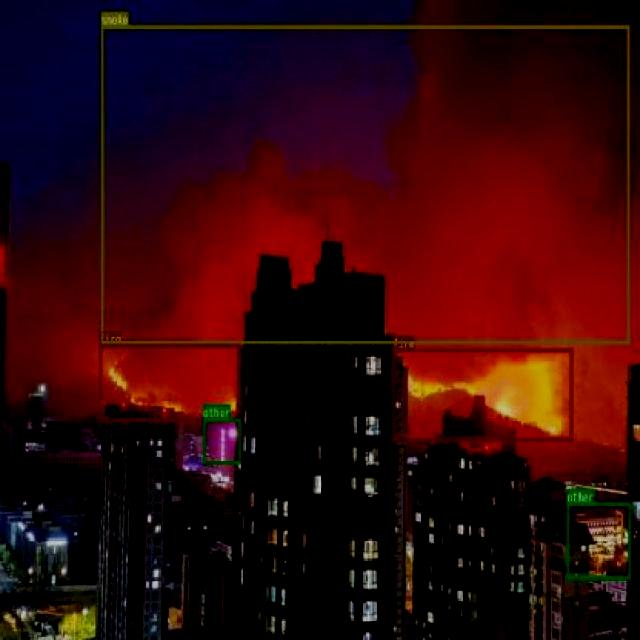fire: (392, 348, 574, 441), (99, 343, 239, 422)
smoke: (100, 24, 629, 343)
